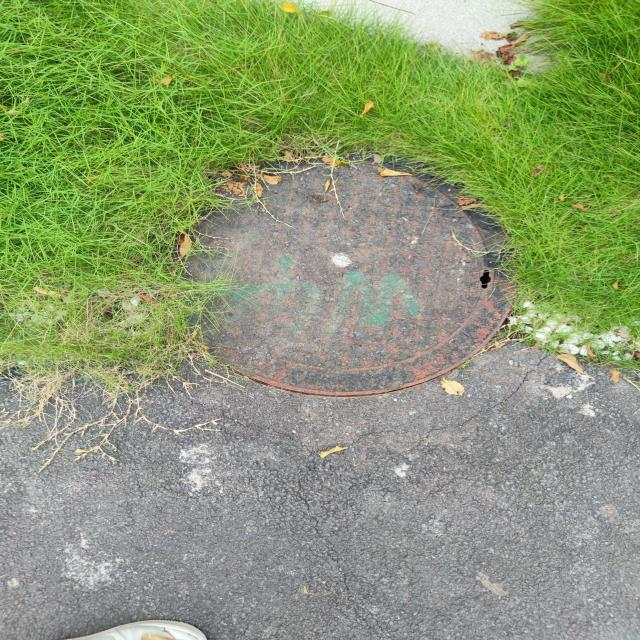Good: (151, 141, 530, 404)
